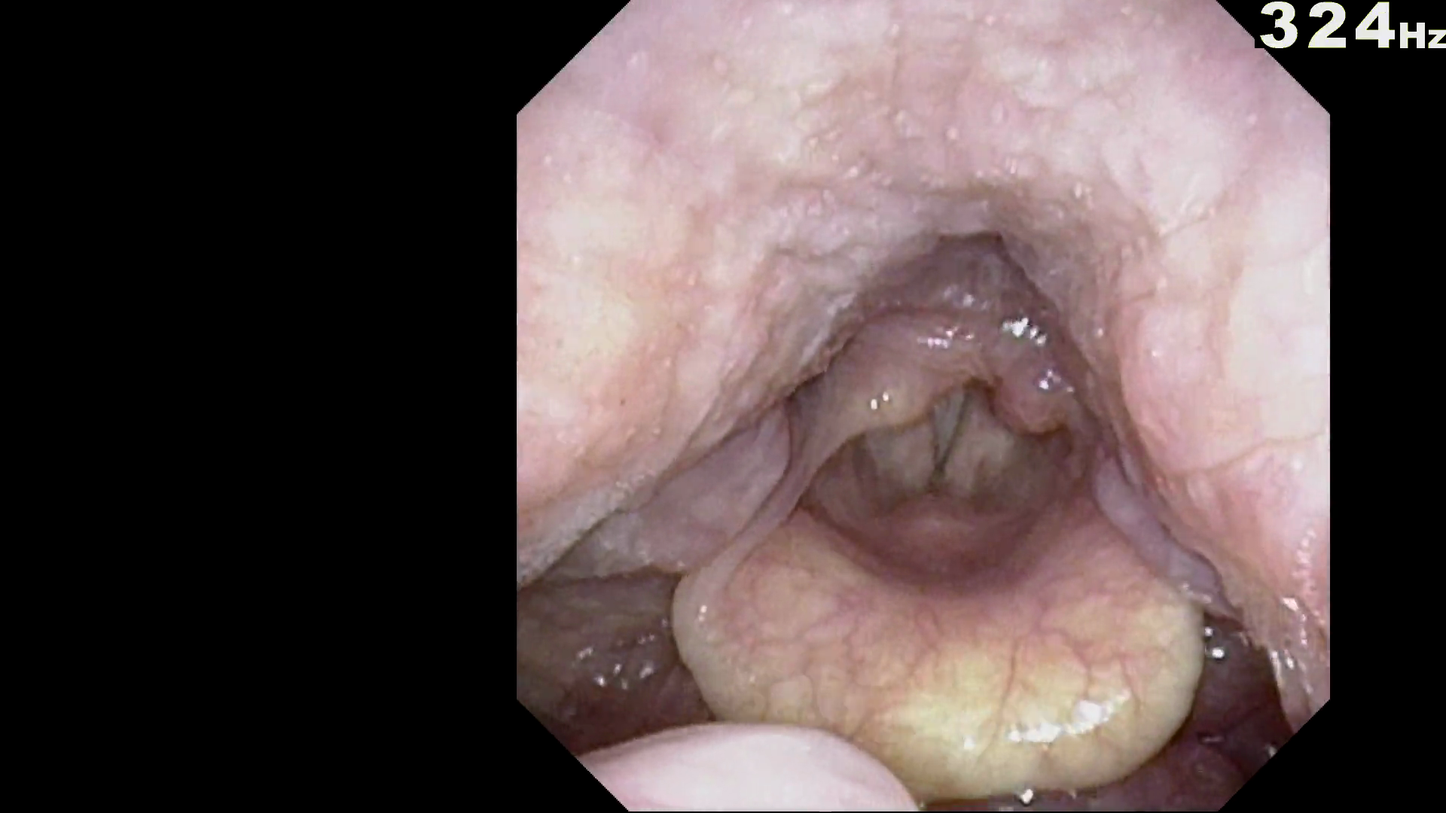epiglottis: (665, 548, 1227, 769)
trachea: (863, 340, 1030, 529)
